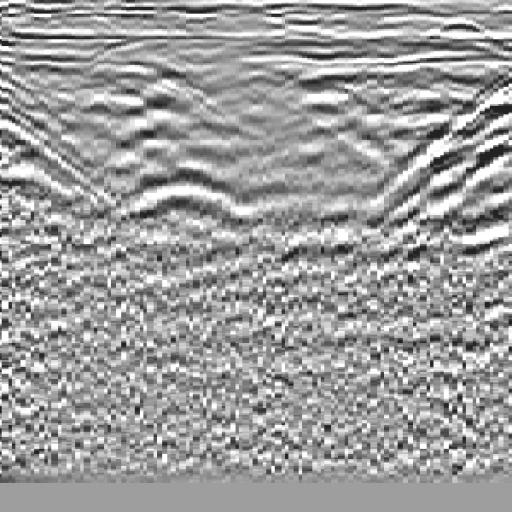metalic: (92, 131, 273, 277)
nonmetalic: (372, 70, 512, 286)
